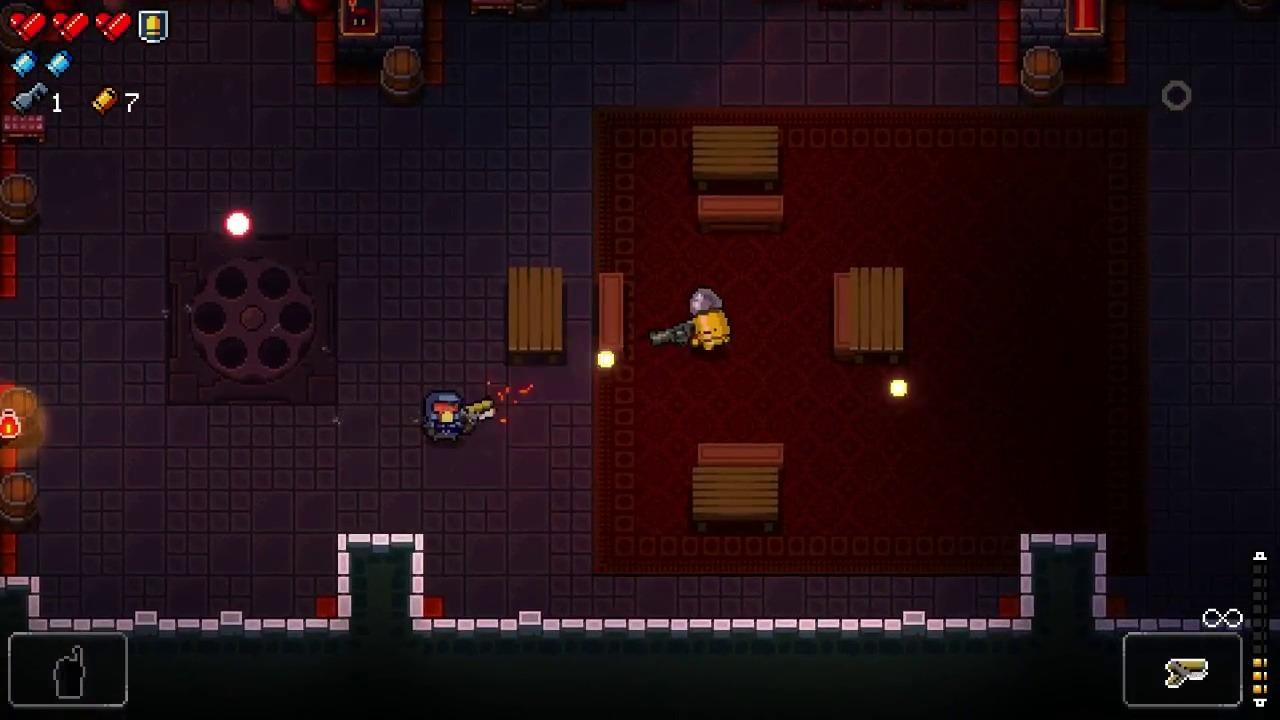bullet: (223, 209, 252, 237)
bullet_kin: (688, 286, 732, 352)
player: (422, 391, 464, 444)
table: (692, 465, 780, 534), (692, 126, 780, 190), (508, 266, 563, 366), (849, 266, 904, 363)
teleporter: (167, 231, 340, 406)
